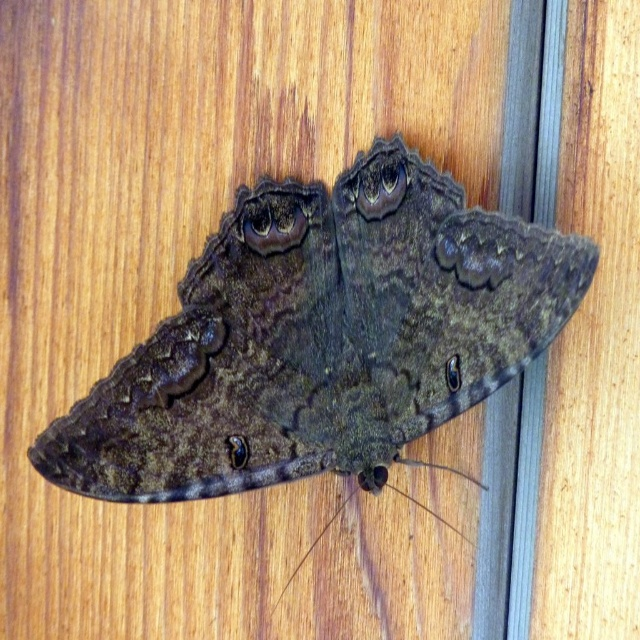Moths and butterflies: (26, 133, 604, 620)
